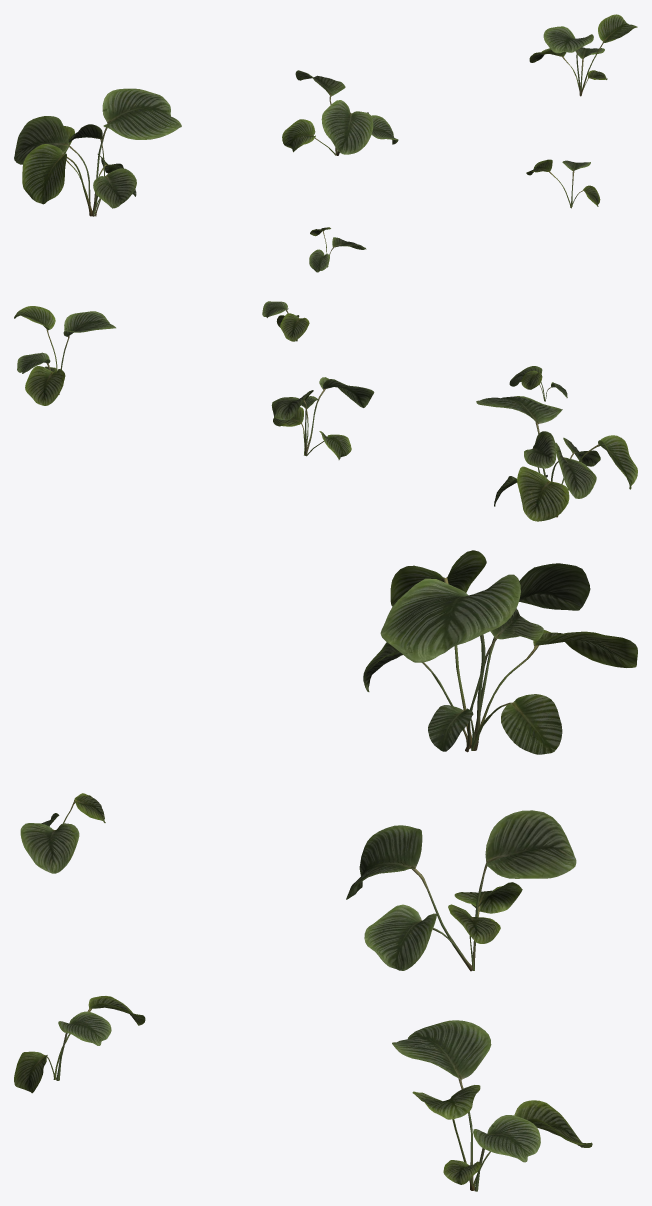
File: calathea_orbifolia_01.glb
3 renders of one model, top to bottom at view 1: azimuth 30°, elevation 25°; view 2: azimuth 150°, elevation 25°; view 3: azimuth 270°, elevation 25°, orthographic. The views are drawn at different scales.
Visible parts, largest first — view 1: calathea_orbifolia_01_a, calathea_orbifolia_01_b, calathea_orbifolia_01_c, calathea_orbifolia_01_e, calathea_orbifolia_01_d; view 2: calathea_orbifolia_01_a, calathea_orbifolia_01_c, calathea_orbifolia_01_b, calathea_orbifolia_01_e, calathea_orbifolia_01_d; view 3: calathea_orbifolia_01_a, calathea_orbifolia_01_b, calathea_orbifolia_01_c, calathea_orbifolia_01_e, calathea_orbifolia_01_d.
Part boxes in pixels (x1=…): calathea_orbifolia_01_a: x1=14, y1=88, x2=181, y2=216; calathea_orbifolia_01_b: x1=282, y1=70, x2=398, y2=155; calathea_orbifolia_01_c: x1=529, y1=14, x2=637, y2=96; calathea_orbifolia_01_e: x1=526, y1=159, x2=600, y2=208; calathea_orbifolia_01_d: x1=309, y1=227, x2=366, y2=272; calathea_orbifolia_01_a: x1=476, y1=396, x2=637, y2=521; calathea_orbifolia_01_c: x1=14, y1=306, x2=115, y2=405; calathea_orbifolia_01_b: x1=271, y1=377, x2=374, y2=459; calathea_orbifolia_01_e: x1=262, y1=301, x2=309, y2=341; calathea_orbifolia_01_d: x1=509, y1=366, x2=567, y2=401; calathea_orbifolia_01_a: x1=363, y1=550, x2=637, y2=754; calathea_orbifolia_01_b: x1=346, y1=810, x2=576, y2=971; calathea_orbifolia_01_c: x1=392, y1=1020, x2=592, y2=1191; calathea_orbifolia_01_e: x1=14, y1=996, x2=145, y2=1093; calathea_orbifolia_01_d: x1=20, y1=793, x2=105, y2=873.
Size of the model in its own units: 2.49 by 0.4243 by 1.19.
Materials: 1 (1 with a texture image).
